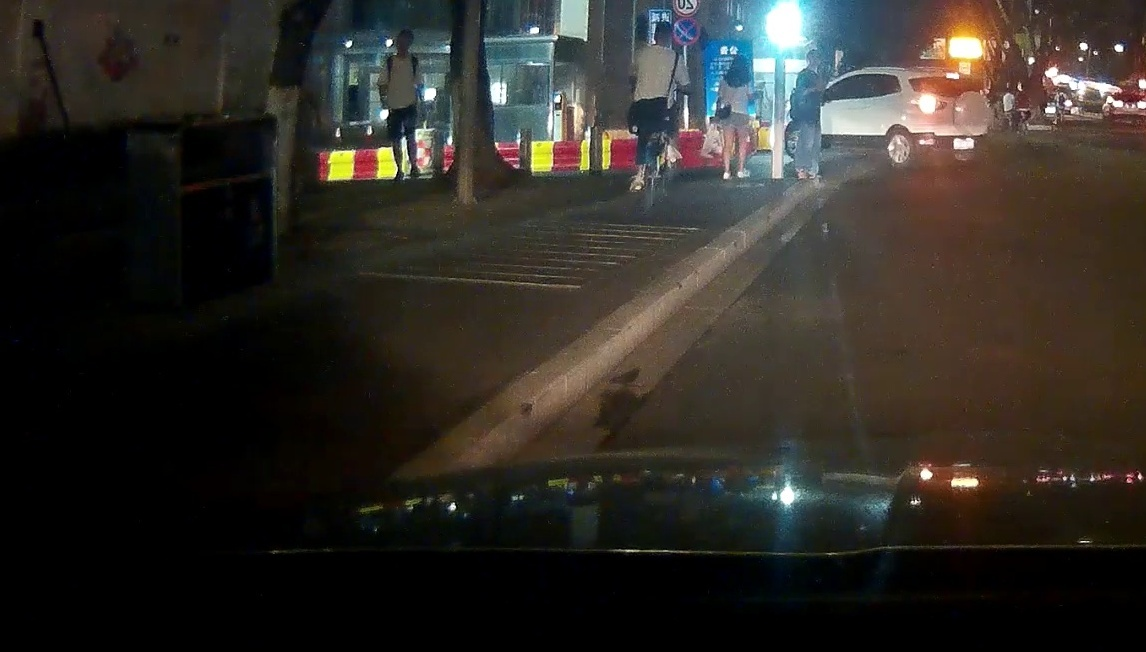L_light: (913, 99, 947, 113)
R_light: (977, 103, 986, 113)
T_light: (945, 73, 960, 79)
night-left: (901, 68, 991, 164)
